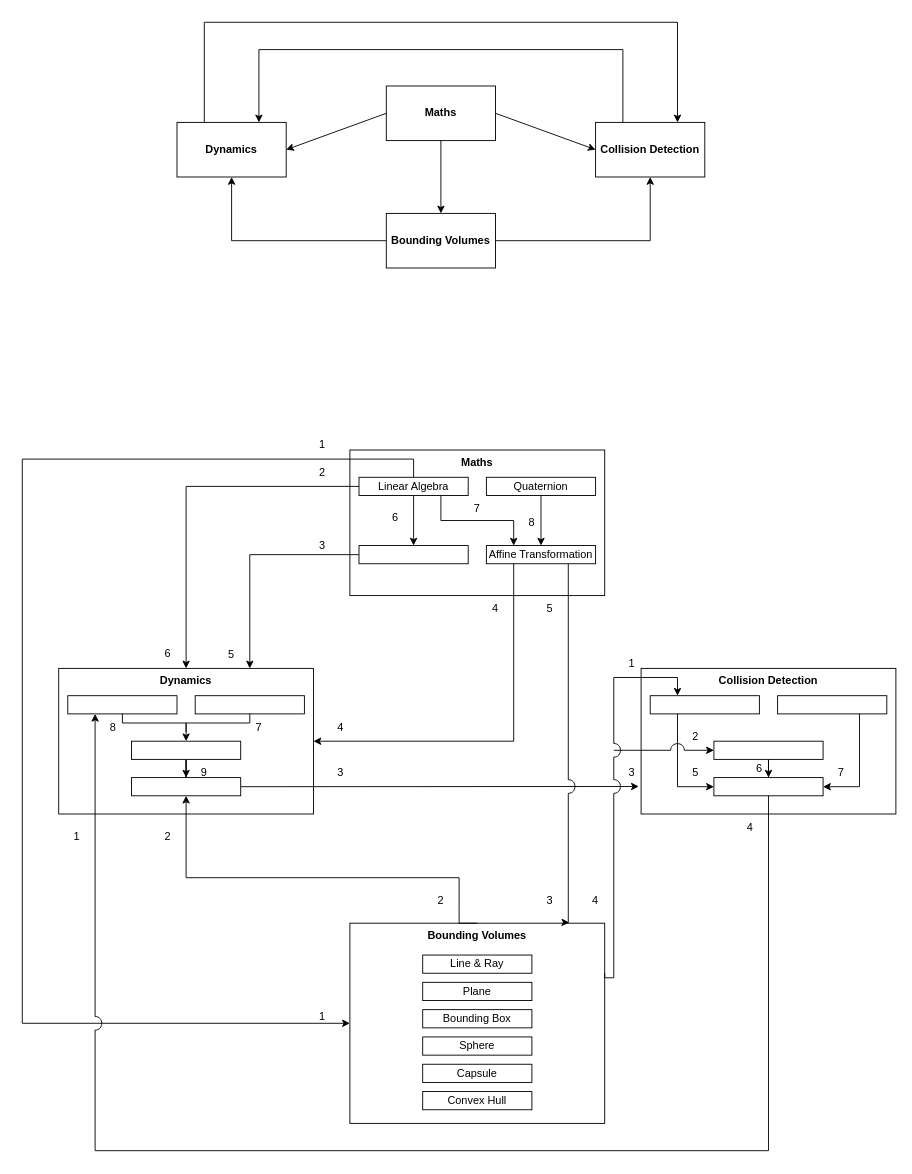
This 912x1174 diagram has some shape labels left out. Each missing label, with the box of its shape:
Constraint Solving: (713, 777, 823, 796)
Kinematics: (194, 695, 304, 714)
Momentum: (67, 695, 177, 714)
Numerical Methods: (358, 545, 468, 564)
Optimization: (777, 695, 887, 714)
Particle: (131, 740, 241, 759)
Primitive Test: (649, 695, 759, 714)
Rigid Body: (131, 777, 241, 796)
Spatial Partitioning: (713, 740, 823, 759)
